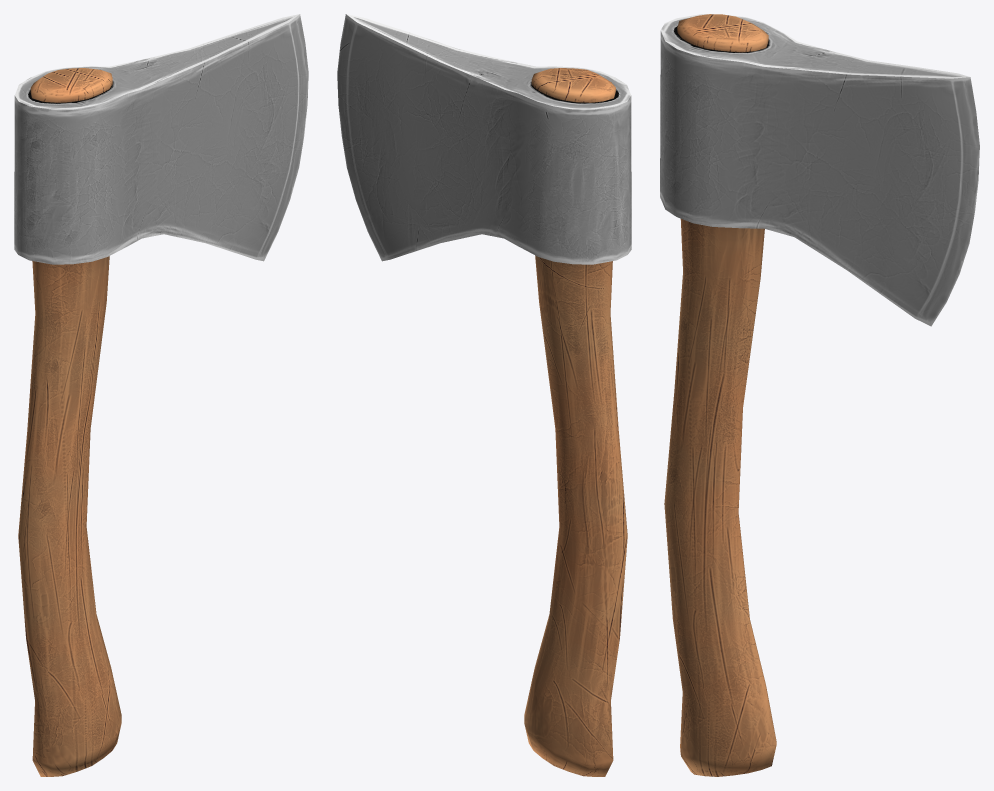
The model's file is axe.fbx.
The picture shows the model from 3 angles, left to right: view 1: azimuth 30°, elevation 25°; view 2: azimuth 150°, elevation 25°; view 3: azimuth 330°, elevation 25°; orthographic projection. The views are drawn at different scales.
Visible parts, largest first — view 1: Axe; view 2: Axe; view 3: Axe.
Boxes of the visible parts, box(x1,y1,x2,y2) form: Axe: box(14, 14, 308, 776); Axe: box(337, 14, 631, 776); Axe: box(660, 14, 979, 776).
Bounding box in the file's own units: 15.85 × 36.46 × 4.5.
1 material, 1 textured.
